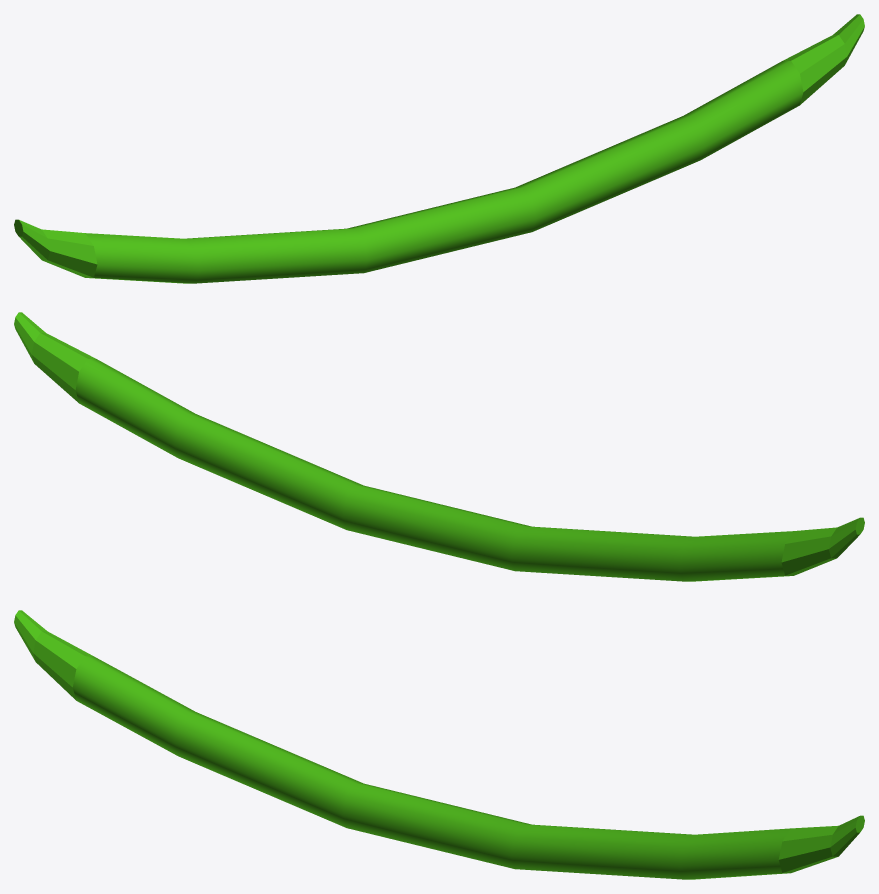
File: SK_BouchePlayer_04.fbx
3 views of the same model, one above another, from view 1: azimuth 30°, elevation 25°; view 2: azimuth 150°, elevation 25°; view 3: azimuth 330°, elevation 25° (orthographic).
Visible parts, largest first — view 1: SM_BOUUUUCHE_04; view 2: SM_BOUUUUCHE_04; view 3: SM_BOUUUUCHE_04.
Part boxes in pixels (x1=…): SM_BOUUUUCHE_04: x1=14, y1=14, x2=864, y2=283; SM_BOUUUUCHE_04: x1=14, y1=312, x2=864, y2=581; SM_BOUUUUCHE_04: x1=14, y1=610, x2=864, y2=879.
Bounding box in the file's own units: 35.34 × 1.8 × 5.45.
